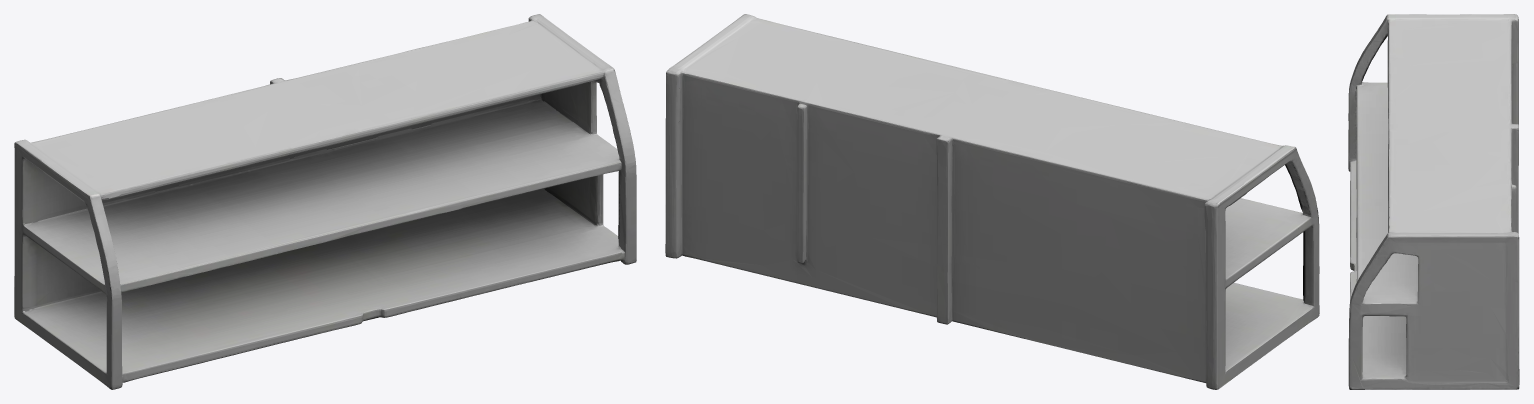
The model's file is food_fruit_cup.glb.
3 views of the same model, side by side, from view 1: azimuth 30°, elevation 25°; view 2: azimuth 150°, elevation 25°; view 3: azimuth 270°, elevation 25° (orthographic). The views are drawn at different scales.
Parts seen in each view (by area): view 1: geometry_0; view 2: geometry_0; view 3: geometry_0.
Boxes of the visible parts, bbox=[...] form: geometry_0: bbox=[14, 14, 636, 389]; geometry_0: bbox=[665, 14, 1319, 389]; geometry_0: bbox=[1348, 14, 1519, 389].
Size of the model in its own units: 1 by 0.3242 by 0.3255.
1 material, 1 textured.
